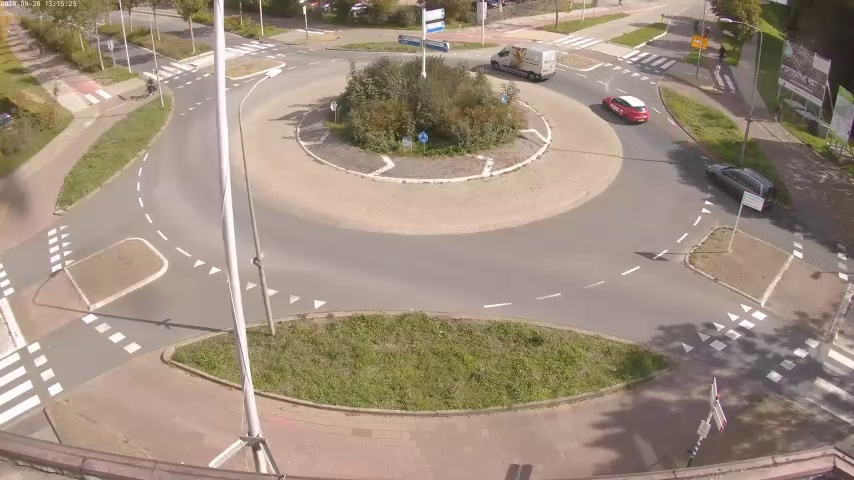bicycle: (145, 74, 155, 100)
car: (706, 161, 776, 205), (605, 92, 646, 123)
van: (488, 41, 554, 84)
